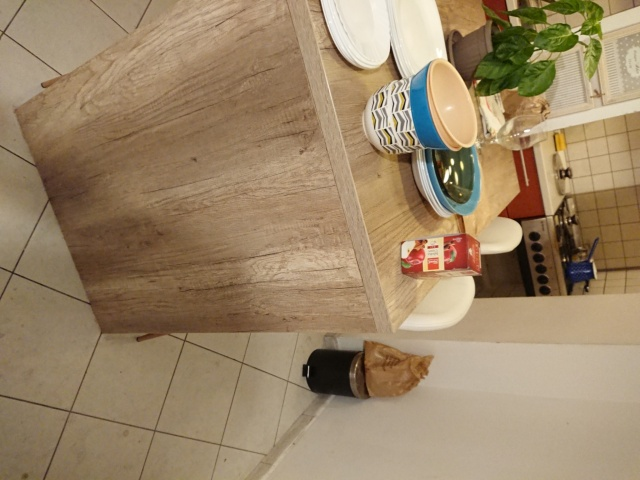Franck Apple Cinnamon Tea 60g: (397, 231, 483, 281)
